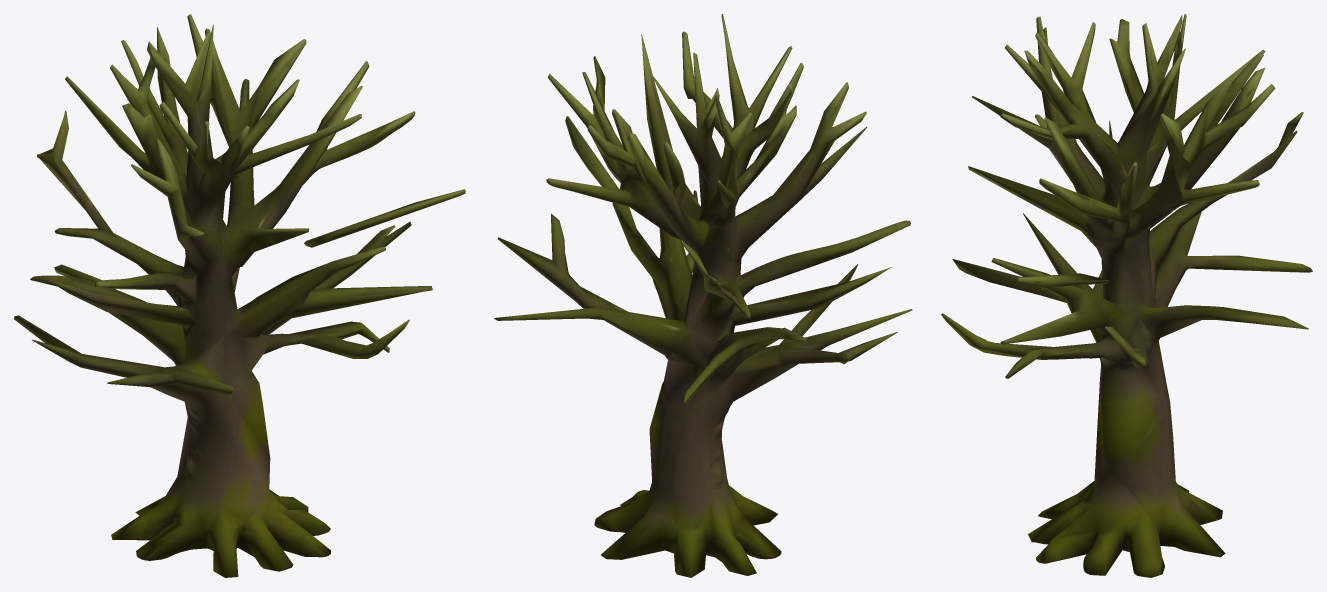
File: oak_tree_2.glb
3 renders of one model, left to right at view 1: azimuth 30°, elevation 25°; view 2: azimuth 150°, elevation 25°; view 3: azimuth 270°, elevation 25°, orthographic. The views are drawn at different scales.
Parts seen in each view (by area): view 1: node_0; view 2: node_0; view 3: node_0.
Part boxes in pixels (bbox=[...]): node_0: bbox=[14, 14, 465, 577]; node_0: bbox=[494, 14, 912, 577]; node_0: bbox=[941, 14, 1312, 577].
Bounding box in the file's own units: 0.9085 × 1.11 × 0.7359.
1 material, 1 textured.
